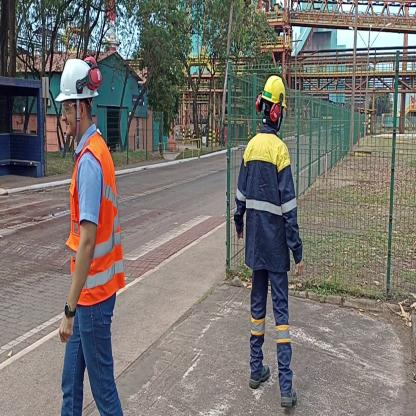Balaclava: (260, 99, 281, 132)
C_eletrica: (232, 131, 304, 274)
Capacete: (54, 56, 102, 102), (261, 73, 288, 107)
colete: (63, 142, 127, 304)
